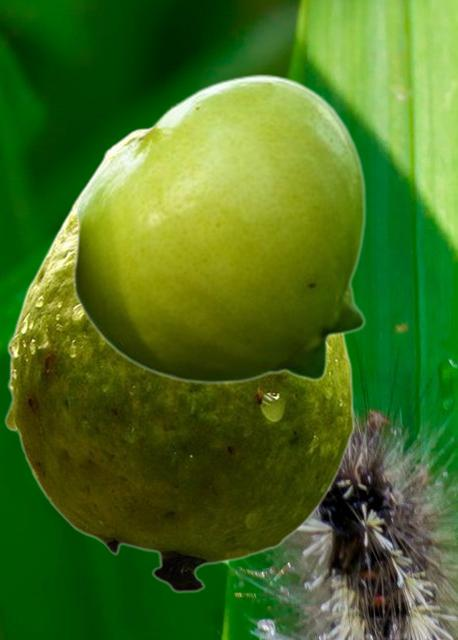guava: (4, 124, 354, 593), (71, 73, 366, 383)
